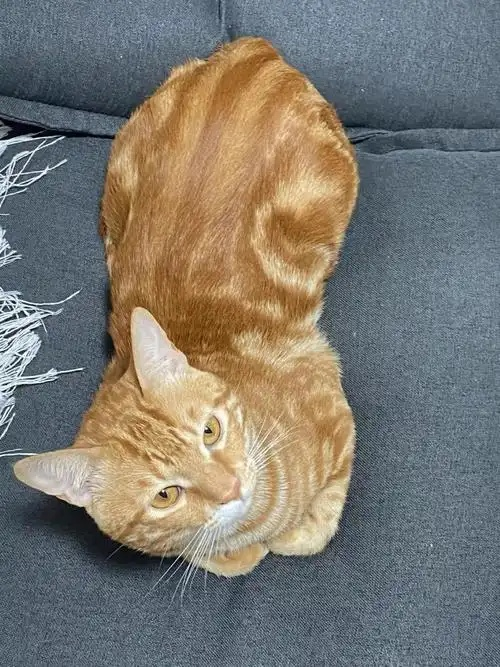橘猫: (14, 307, 353, 575), (101, 38, 357, 379)
